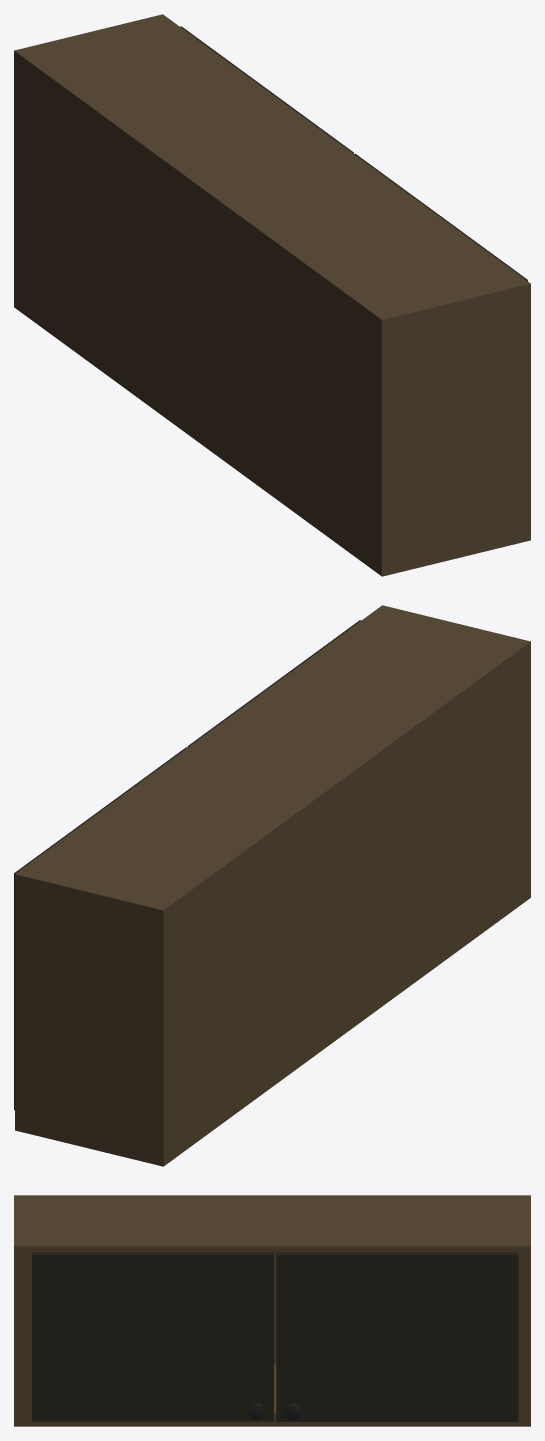
File: KitchenWallCabinet.fbx
3 views of the same model, one above another, from view 1: azimuth 30°, elevation 25°; view 2: azimuth 150°, elevation 25°; view 3: azimuth 270°, elevation 25° (orthographic). The views are drawn at different scales.
Parts seen in each view (by area): view 1: Cube.062; view 2: Cube.062; view 3: Plane.003, Plane.004, Cube.062.
Boxes of the visible parts, x1,y1,x2,y2 form: Cube.062: (14,14,530,576); Cube.062: (15,605,530,1166); Plane.003: (276,1252,518,1421); Plane.004: (32,1252,273,1421); Cube.062: (14,1195,530,1426).
Bounding box in the file's own units: 52 × 74.14 × 193.
